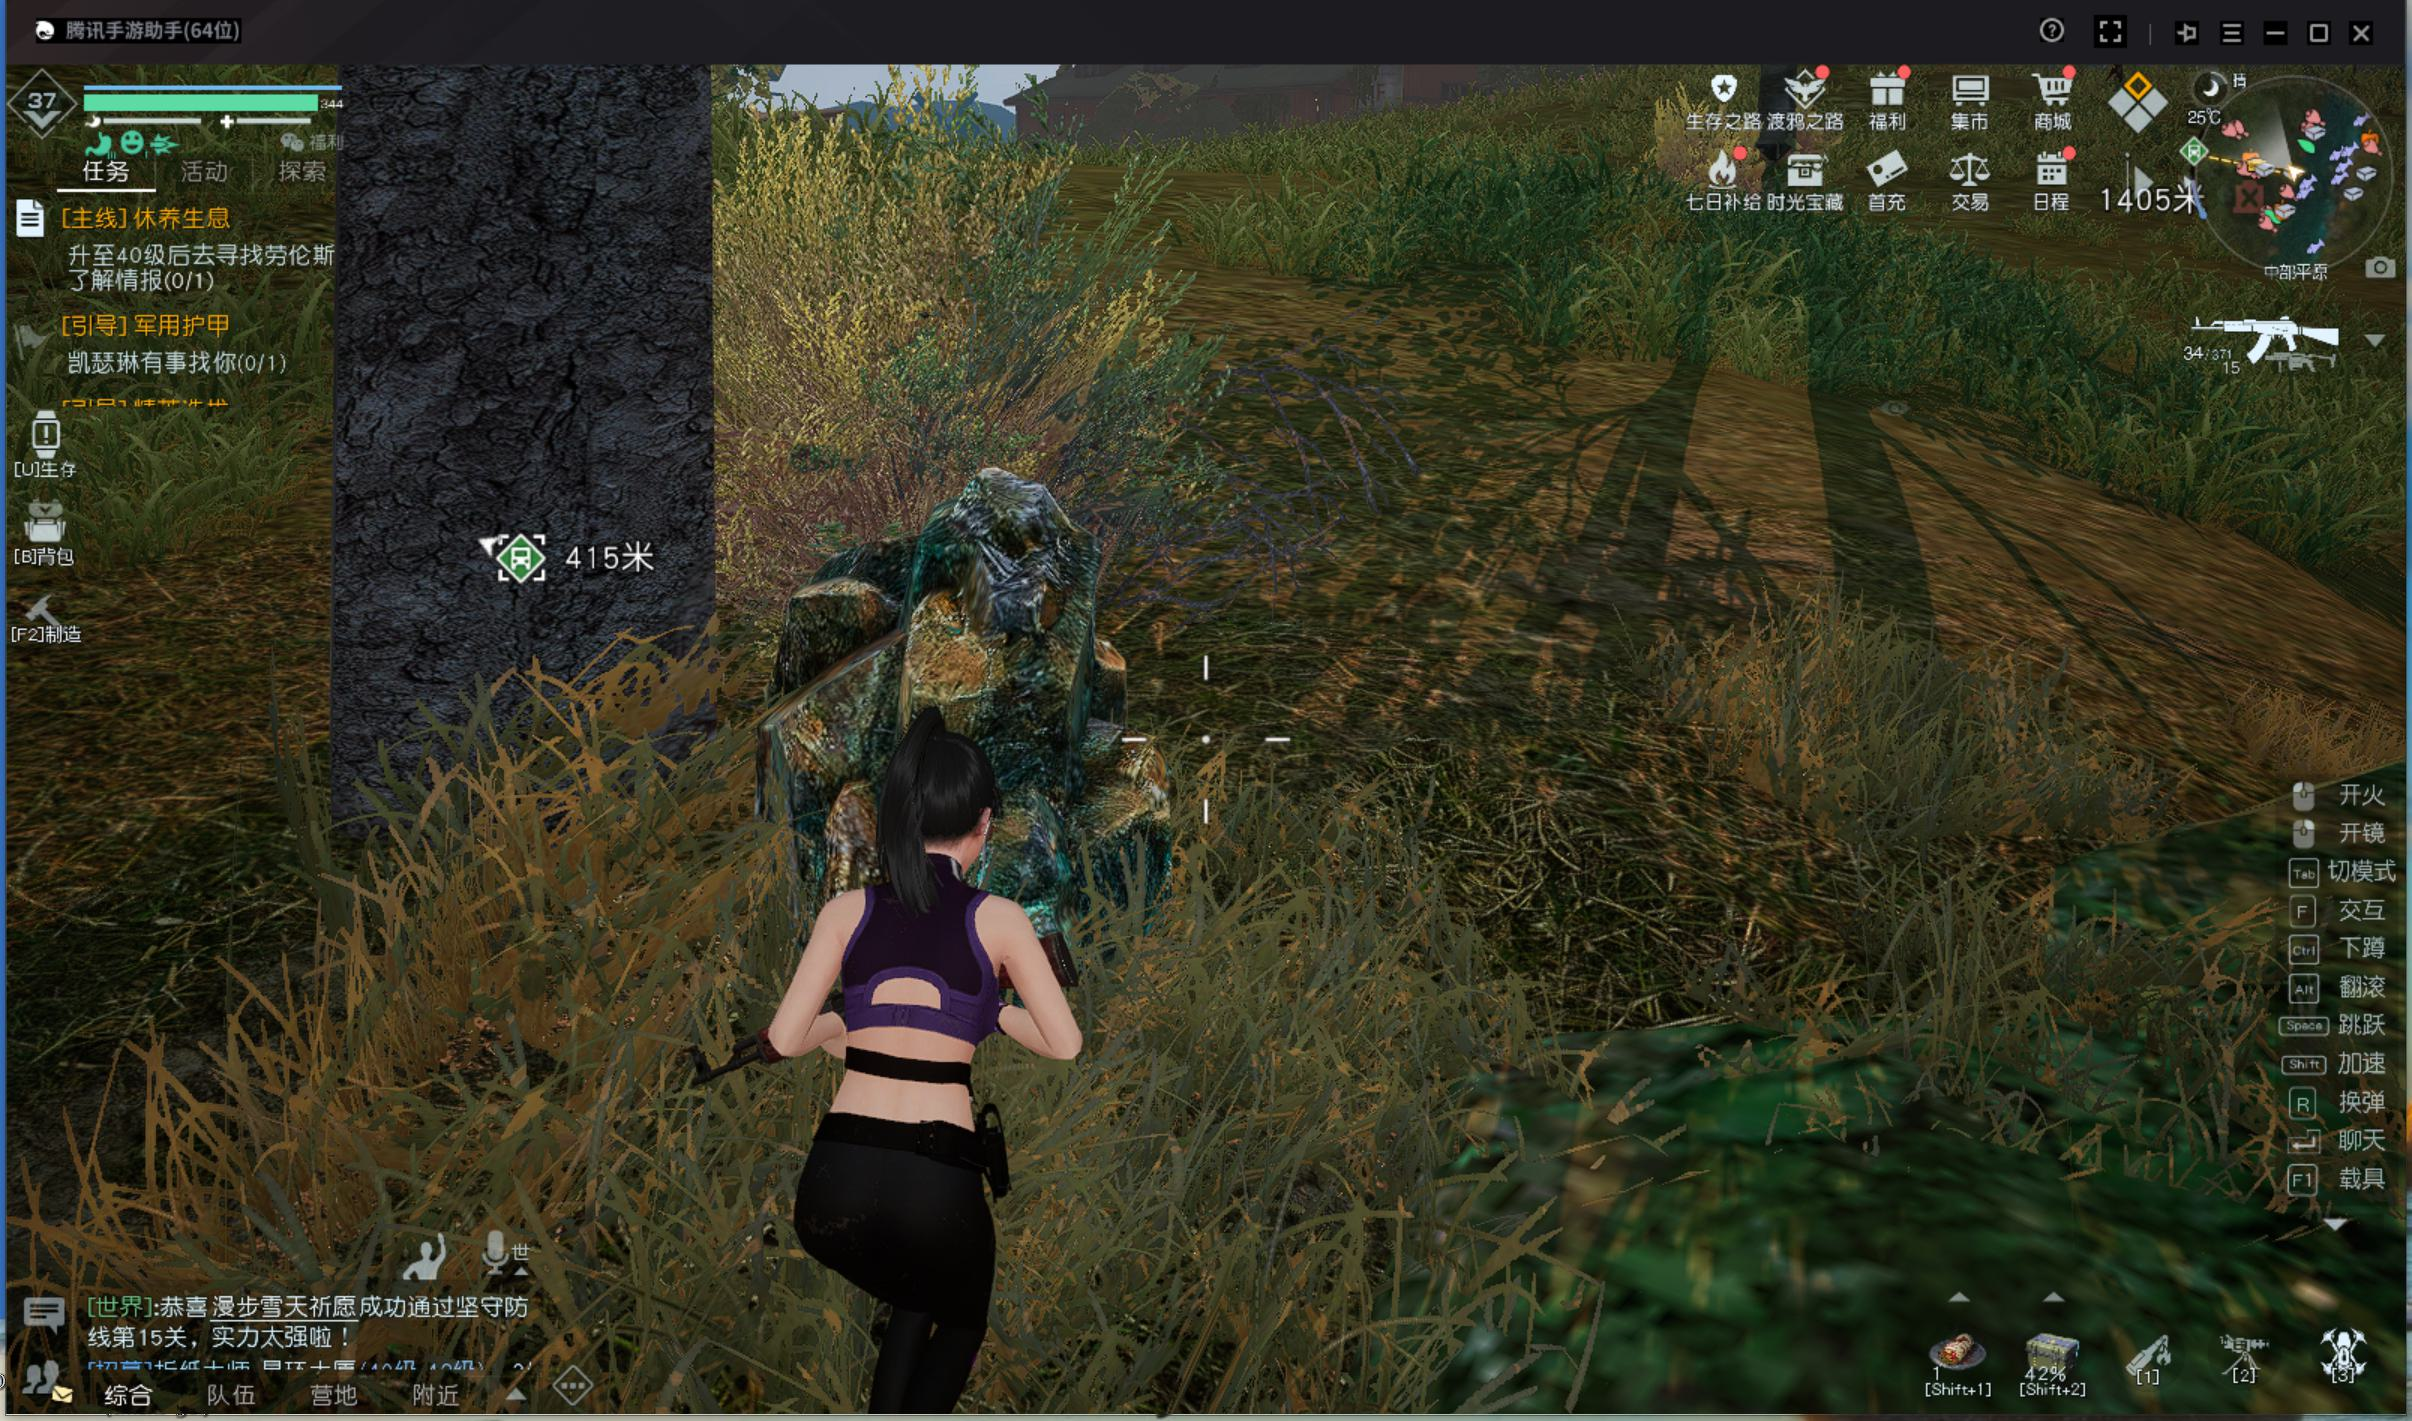stone: (809, 469, 1209, 853)
